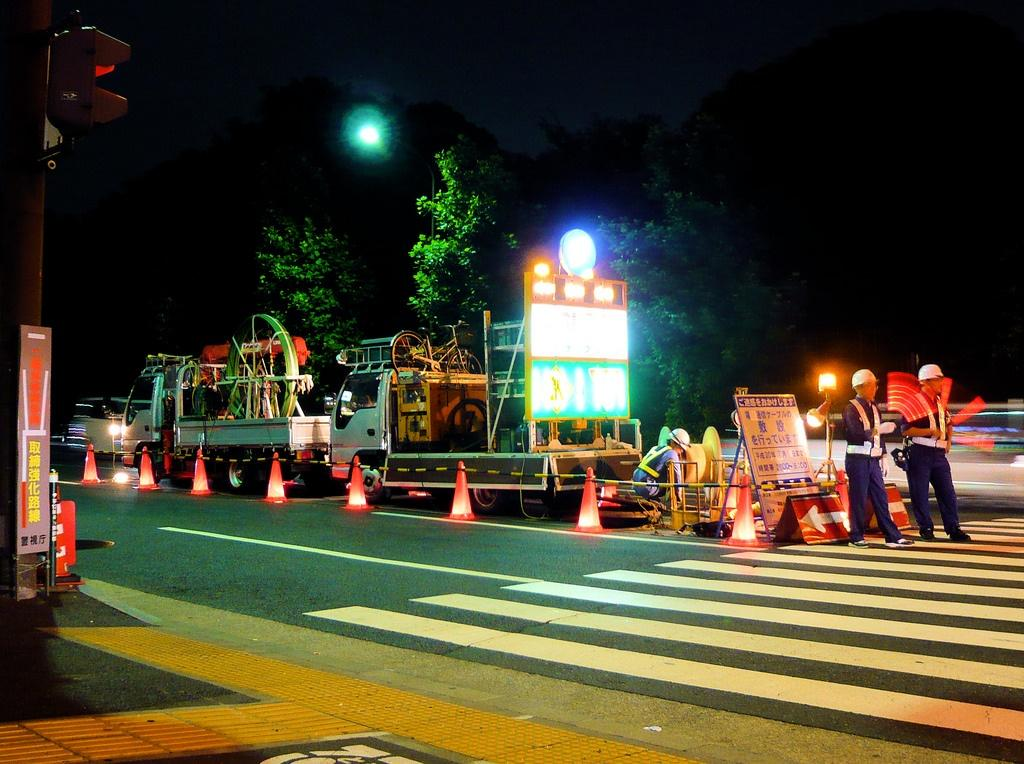Helmet: (850, 370, 879, 398)
Vest: (839, 396, 887, 458), (637, 444, 677, 492)
